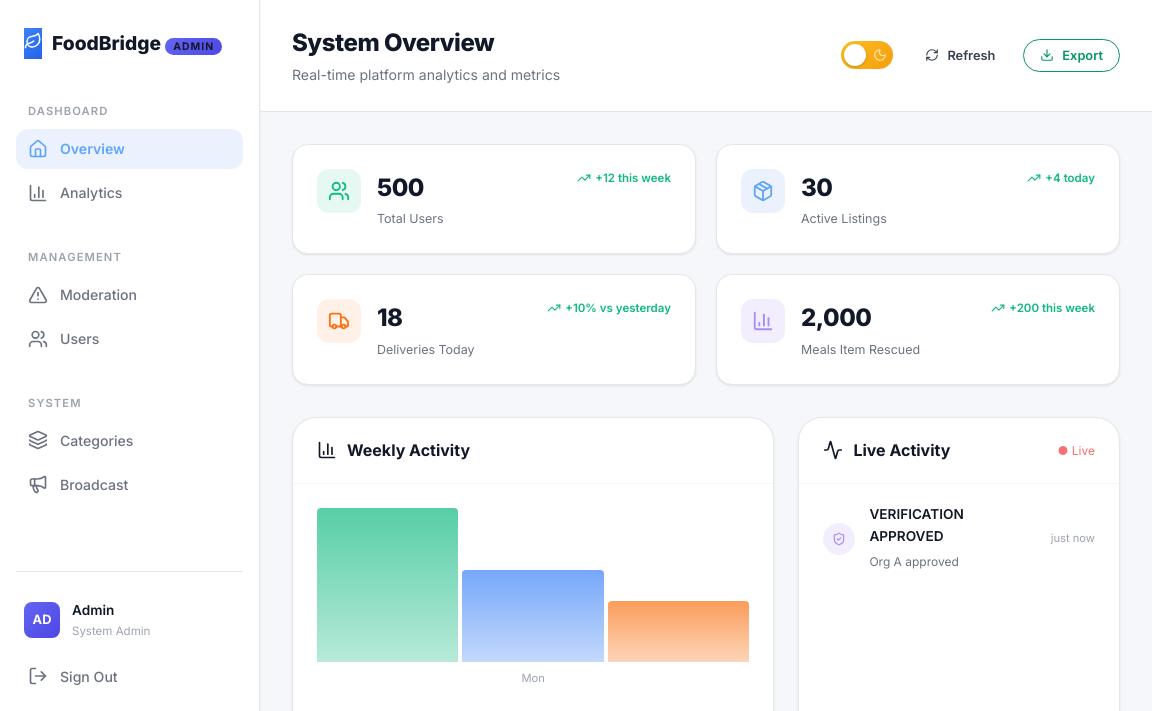
Test: AdminDashboard — sidebar navigation › switches to Users tab on click
The image size is (1152, 711).
Expected: the heading "System Overview" is shown, [292,28,494,57]
Click the button "Users" at (130,339), box [16,319,243,359]
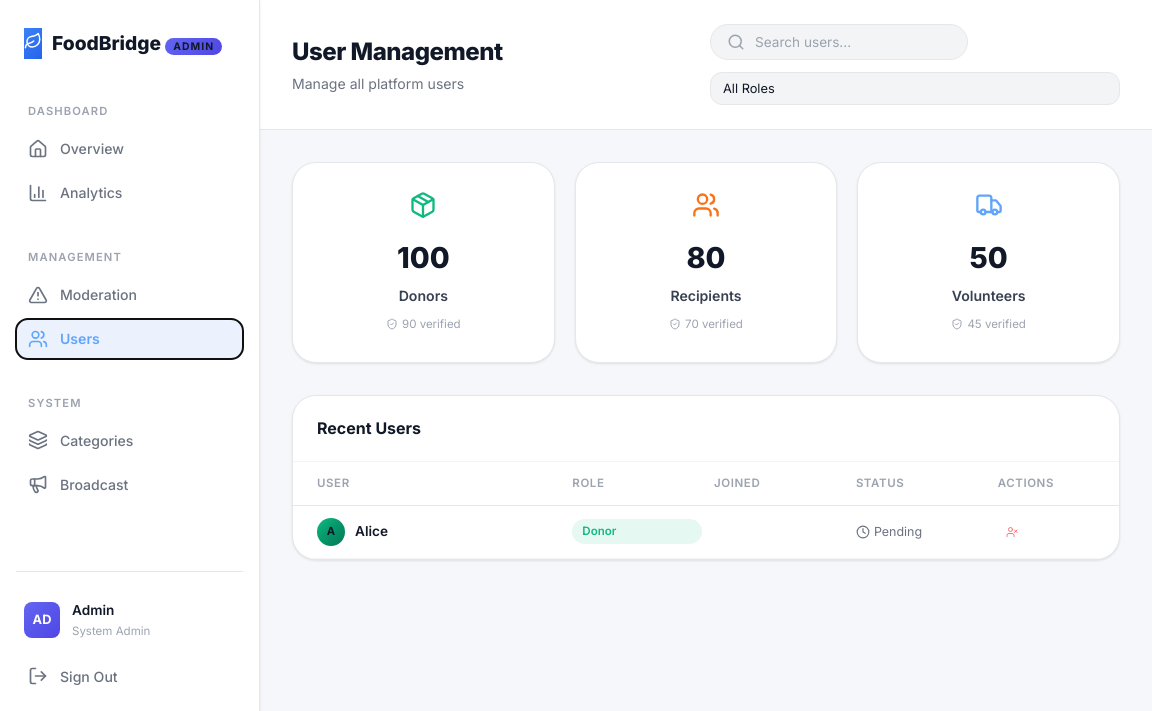
Now the heading "User Management" is shown, box [292,33,503,71]
